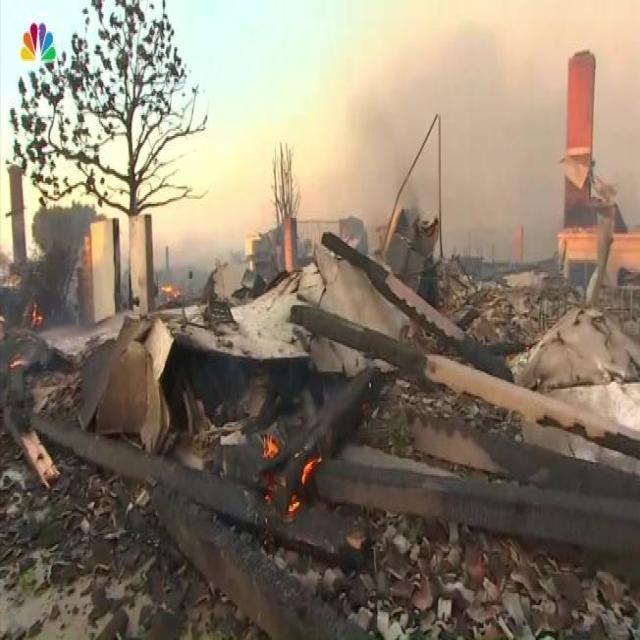Fire: (298, 446, 332, 490), (252, 420, 283, 466), (160, 276, 183, 310), (286, 486, 302, 520), (32, 298, 50, 328)
Smoke: (343, 93, 430, 260)
